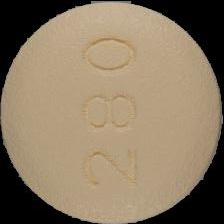49349-802: (0, 0, 224, 224)
